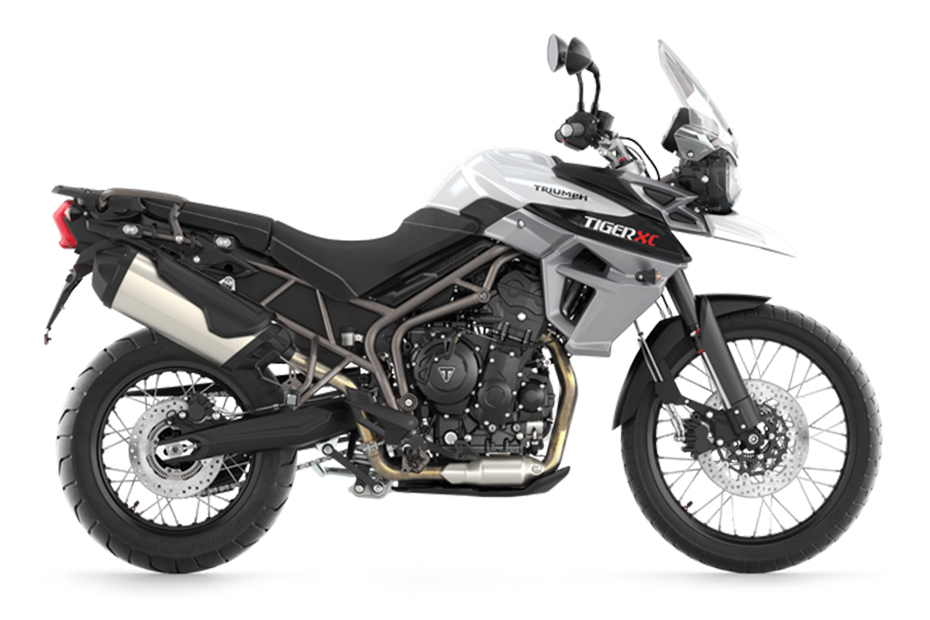motorcycle: (45, 99, 887, 577)
